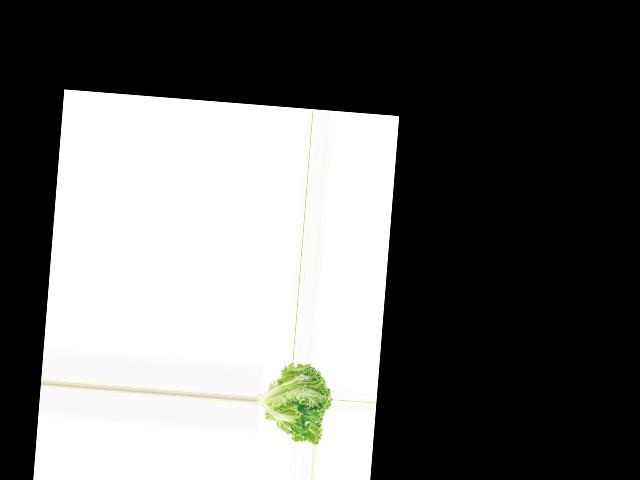lettuce: (253, 359, 334, 445)
